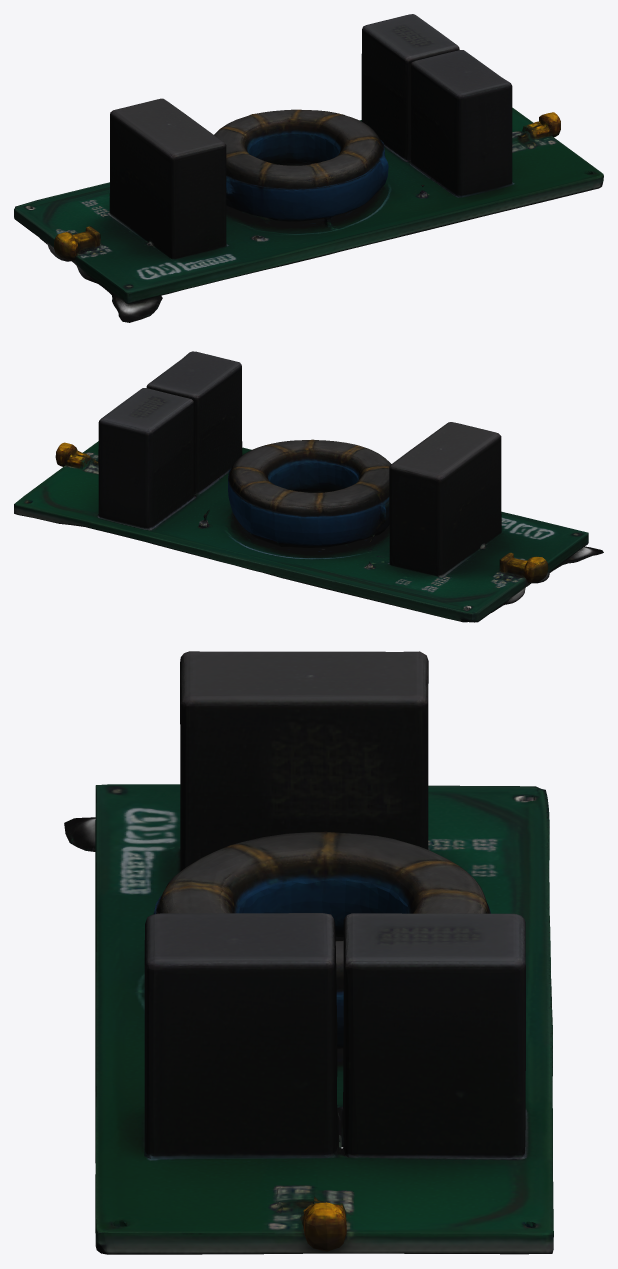
Rendered from EMIReal.glb.
3 renders of one model, top to bottom at view 1: azimuth 30°, elevation 25°; view 2: azimuth 150°, elevation 25°; view 3: azimuth 270°, elevation 25°, orthographic. The views are drawn at different scales.
Parts seen in each view (by area): view 1: world; view 2: world; view 3: world.
Part boxes in pixels (left/top/right/bottom): world: left=14, top=14, right=603, bottom=322; world: left=14, top=351, right=603, bottom=622; world: left=64, top=651, right=553, bottom=1254.
Size of the model in its own units: 0.6951 by 0.1669 by 0.3033.
Materials: 1 (1 with a texture image).
